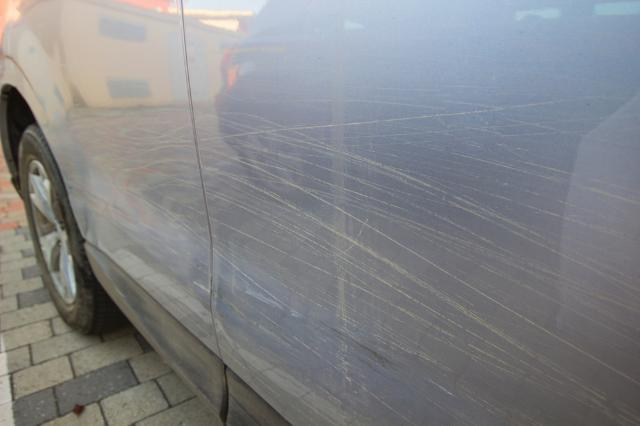scratch: (190, 81, 640, 426), (56, 104, 212, 292)
